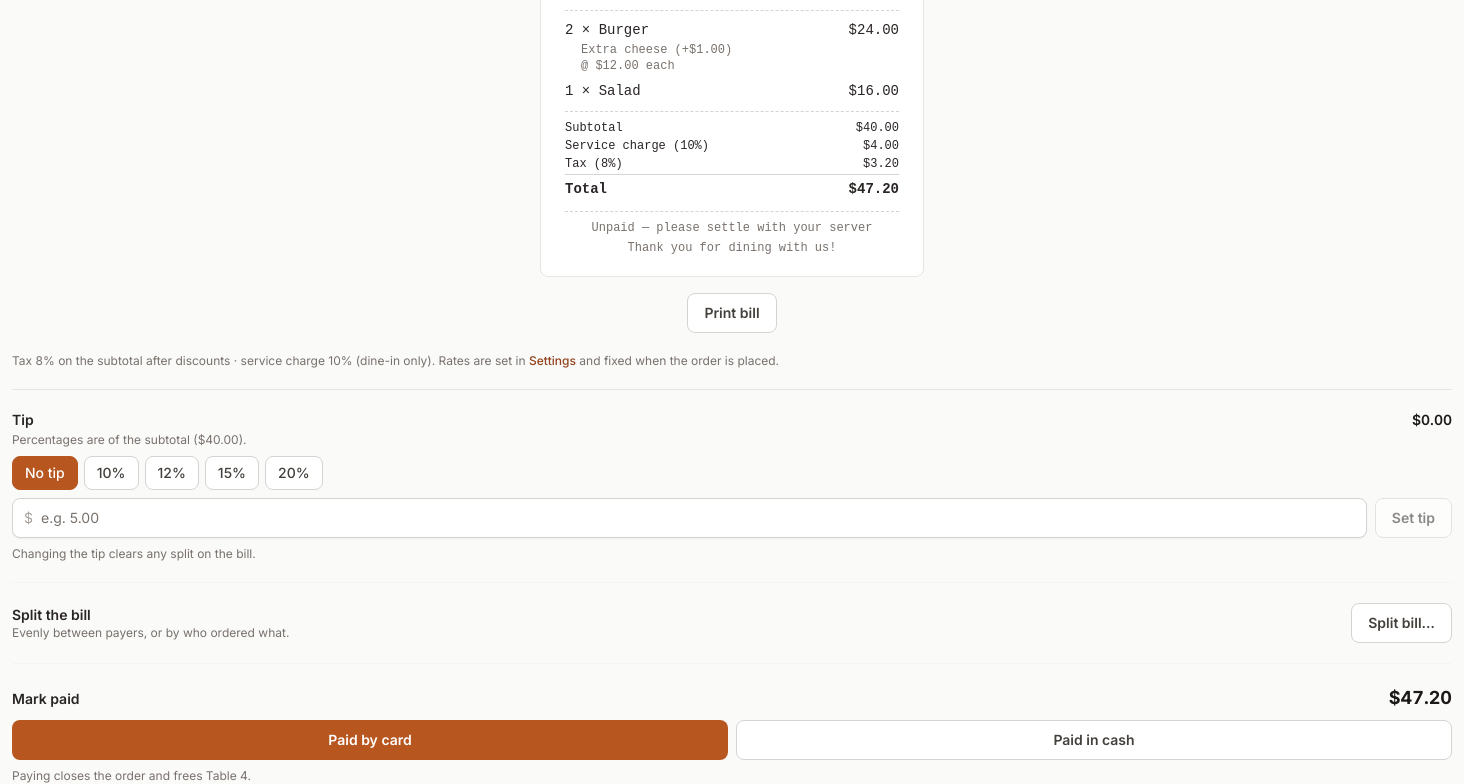
Test case: BillPanel › records a payment, reports the change and switches to the paid view
The width and height of the screenshot is (1464, 784).
(page scrolled)
Step 1. Click the button "Paid by card" → (370, 740), box [12,720,728,760]
(page scrolled)
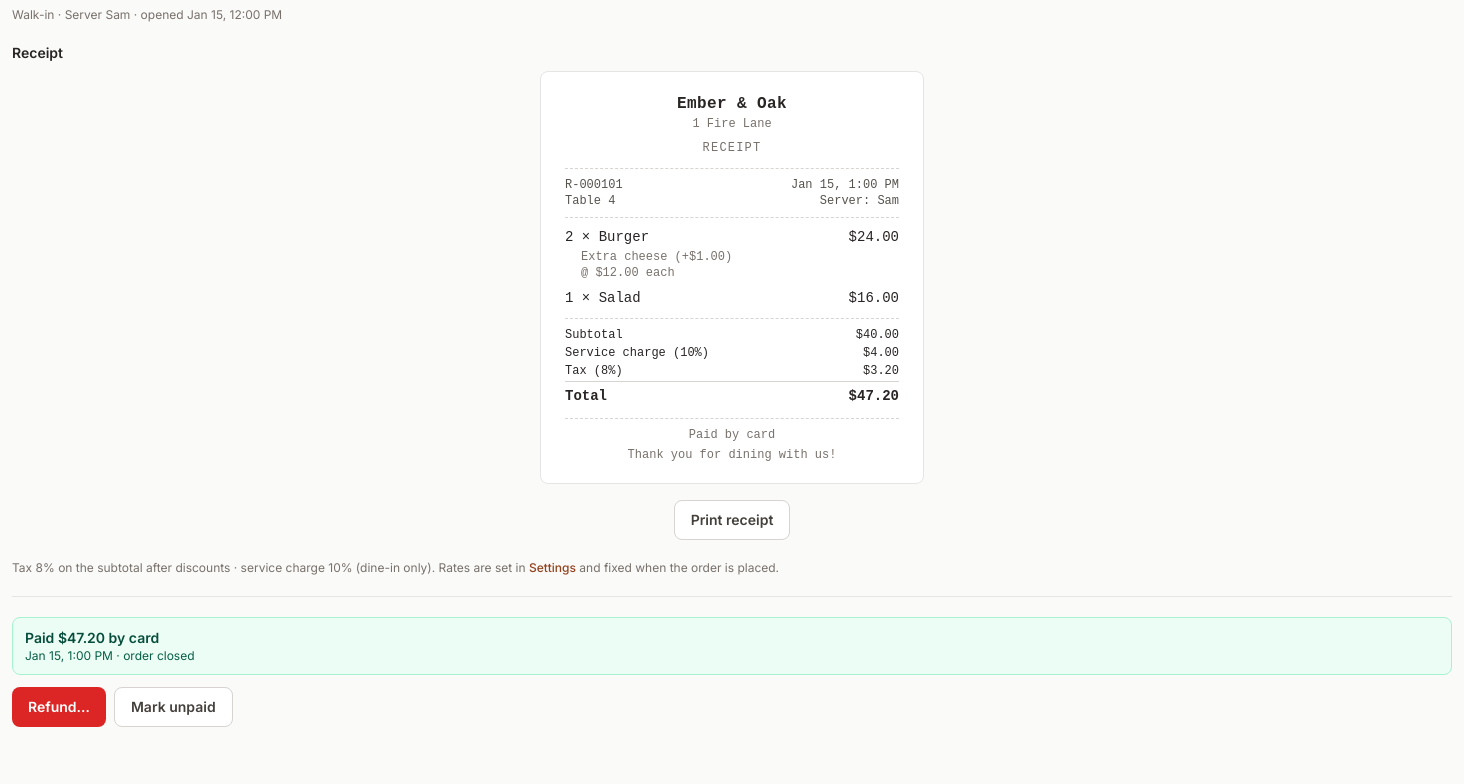
Expected: the element "Receipt" is shown, [12,44,924,540]
Expected: the button "Split bill…" is gone
Expected: the button "Mark unpaid" is shown, [114,686,233,726]
